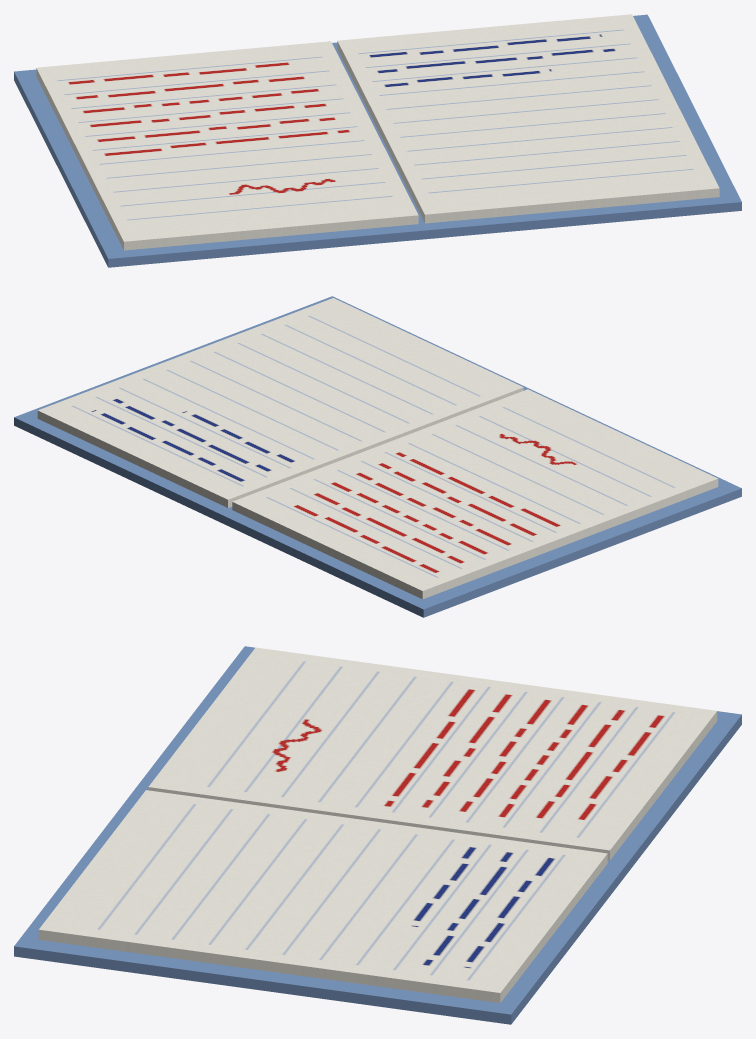
The model's file is escena.casa.citacion_apoderado.fbx.
3 views of the same model, one above another, from view 1: azimuth 30°, elevation 25°; view 2: azimuth 150°, elevation 25°; view 3: azimuth 270°, elevation 25° (orthographic). The views are drawn at different scales.
Visible parts, largest first — view 1: Hoja.001, Hoja, Tapa; view 2: Hoja.001, Hoja, Tapa; view 3: Hoja, Hoja.001, Tapa.
Part boxes in pixels (left/top/right/bottom): Hoja.001: left=36, top=41, right=418, bottom=250; Hoja: left=337, top=14, right=719, bottom=223; Tapa: left=14, top=14, right=741, bottom=267; Hoja.001: left=232, top=389, right=718, bottom=599; Hoja: left=37, top=298, right=523, bottom=507; Tapa: left=14, top=296, right=741, bottom=617; Hoja: left=38, top=790, right=607, bottom=1002; Hoja.001: left=148, top=647, right=717, bottom=860; Tapa: left=14, top=646, right=741, bottom=1024.
Bounding box in the file's own units: 0.2335 × 0.006 × 0.195.
Materials: 3 (2 with a texture image).
